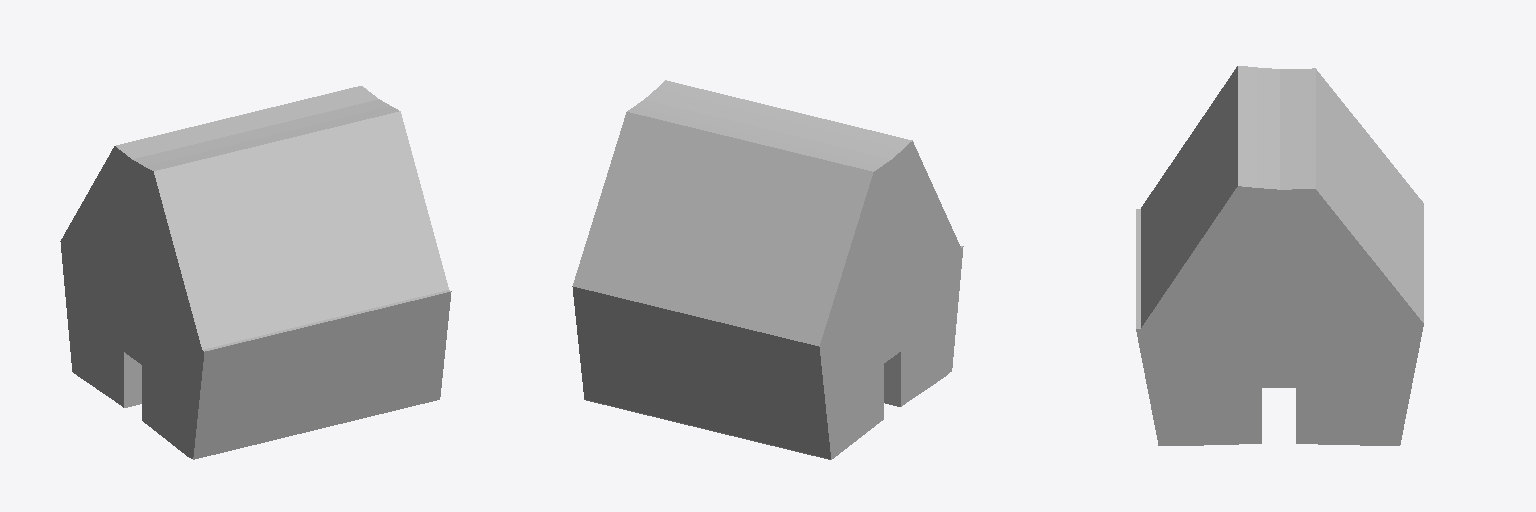
The picture shows the model from 3 angles: view 1: azimuth 30°, elevation 25°; view 2: azimuth 150°, elevation 25°; view 3: azimuth 270°, elevation 25°; orthographic projection.
Visible parts, largest first — view 1: test; view 2: test; view 3: test.
Part boxes in pixels (left/top/right/bottom): test: left=60, top=86, right=451, bottom=459; test: left=572, top=80, right=963, bottom=459; test: left=1136, top=66, right=1423, bottom=445.
Bounding box in the file's own units: 1 × 1.01 × 1.01.